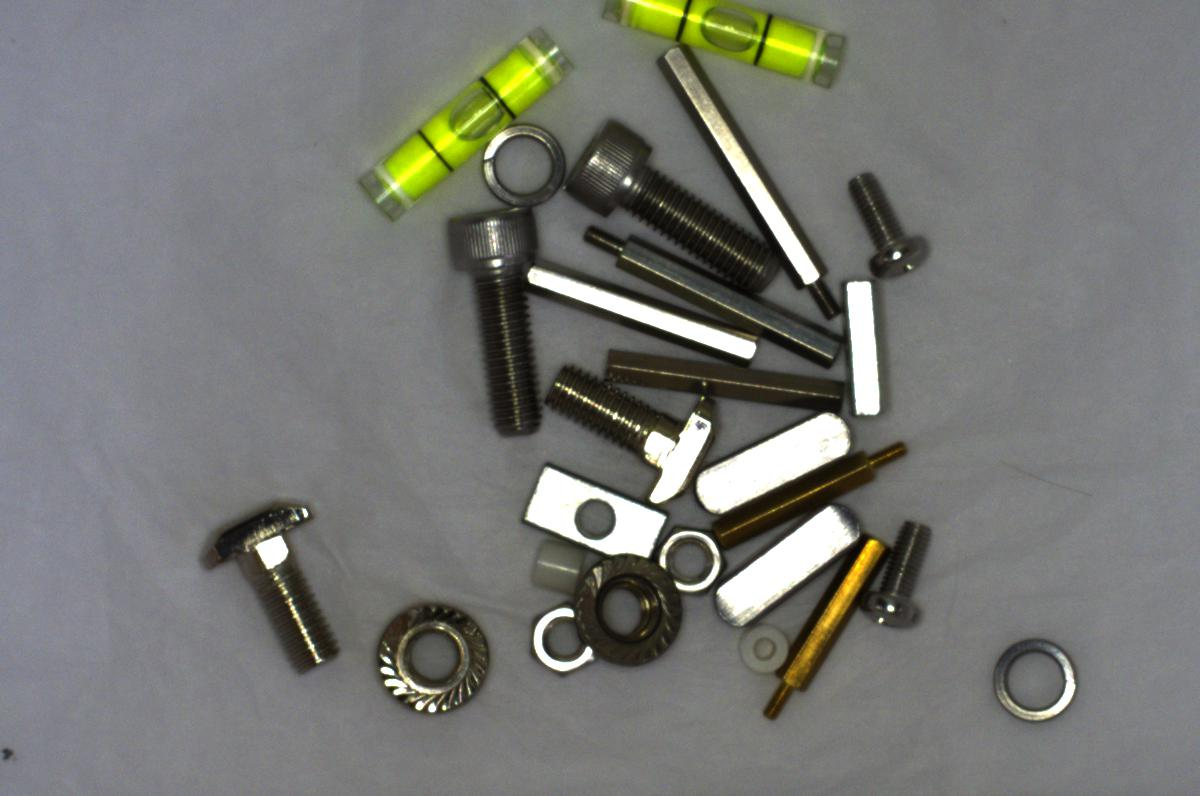Double hexagonal column: (512, 255, 758, 362), (601, 344, 857, 424)
Flange nut: (358, 591, 496, 730), (575, 544, 696, 674)
Hexagon nut: (657, 519, 732, 600), (524, 604, 605, 678)
Hexagon pillar: (767, 540, 884, 719)
Hexagon screw: (561, 112, 782, 291), (441, 209, 561, 440)
Hexagonal steel column: (648, 49, 839, 331), (573, 219, 851, 372)
Horizontal bubble: (366, 23, 570, 219), (596, 0, 848, 92)
Keybar: (685, 399, 867, 518), (715, 518, 873, 622)
Plastic cushion pillar: (525, 539, 591, 596), (734, 622, 797, 680)
Rectangular nut: (523, 467, 666, 558)
Round head screw: (850, 519, 947, 640), (843, 158, 935, 285)
Spring washer: (980, 624, 1082, 728), (473, 121, 571, 209)
T-shaped screw: (192, 474, 348, 678), (533, 362, 730, 510)
